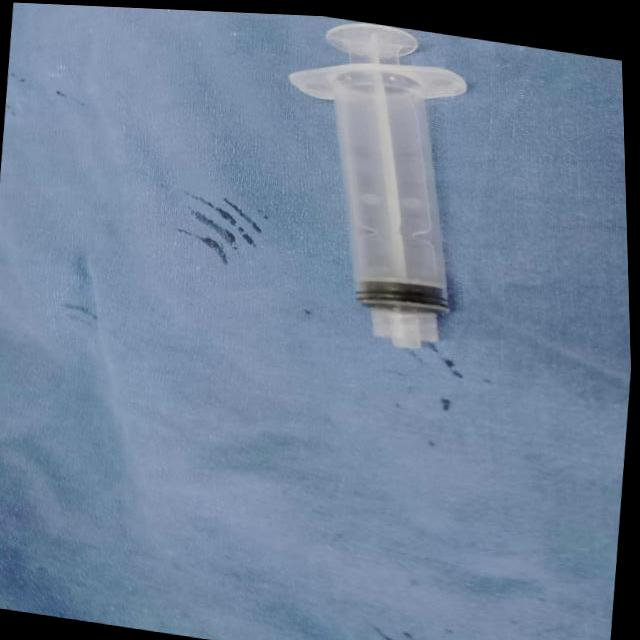Sharps: (287, 22, 467, 350)
